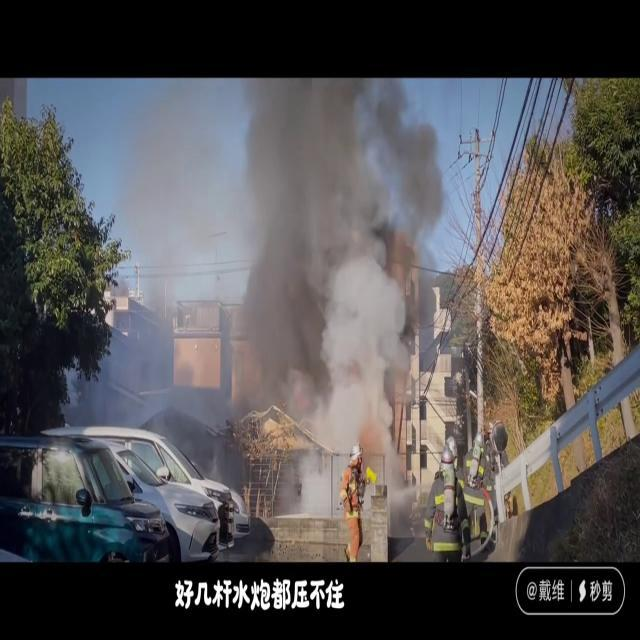Smoke: (90, 78, 450, 484), (228, 78, 450, 486)
